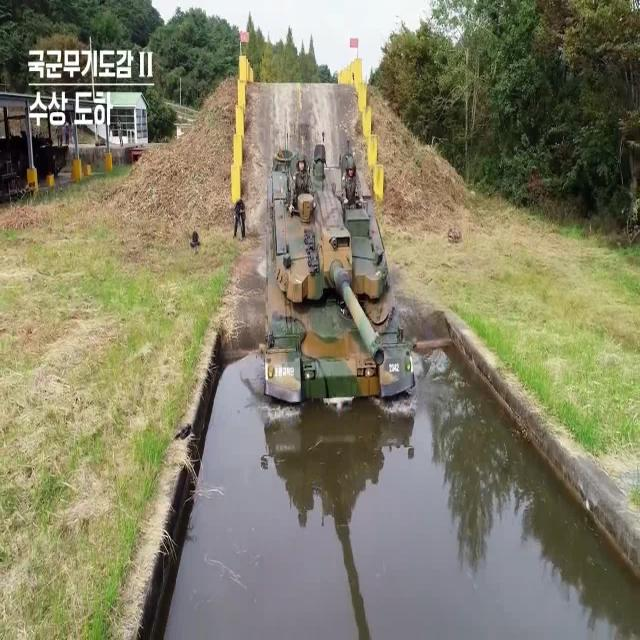korea tank: (258, 129, 418, 412)
